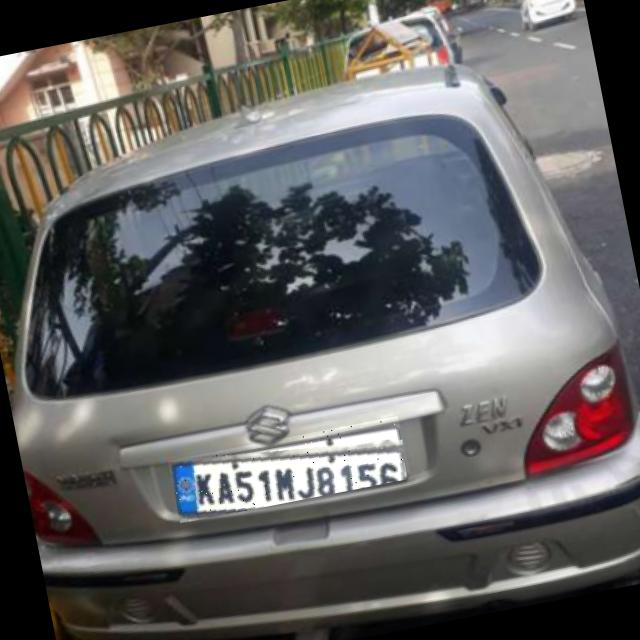Plate: (169, 417, 411, 524)
